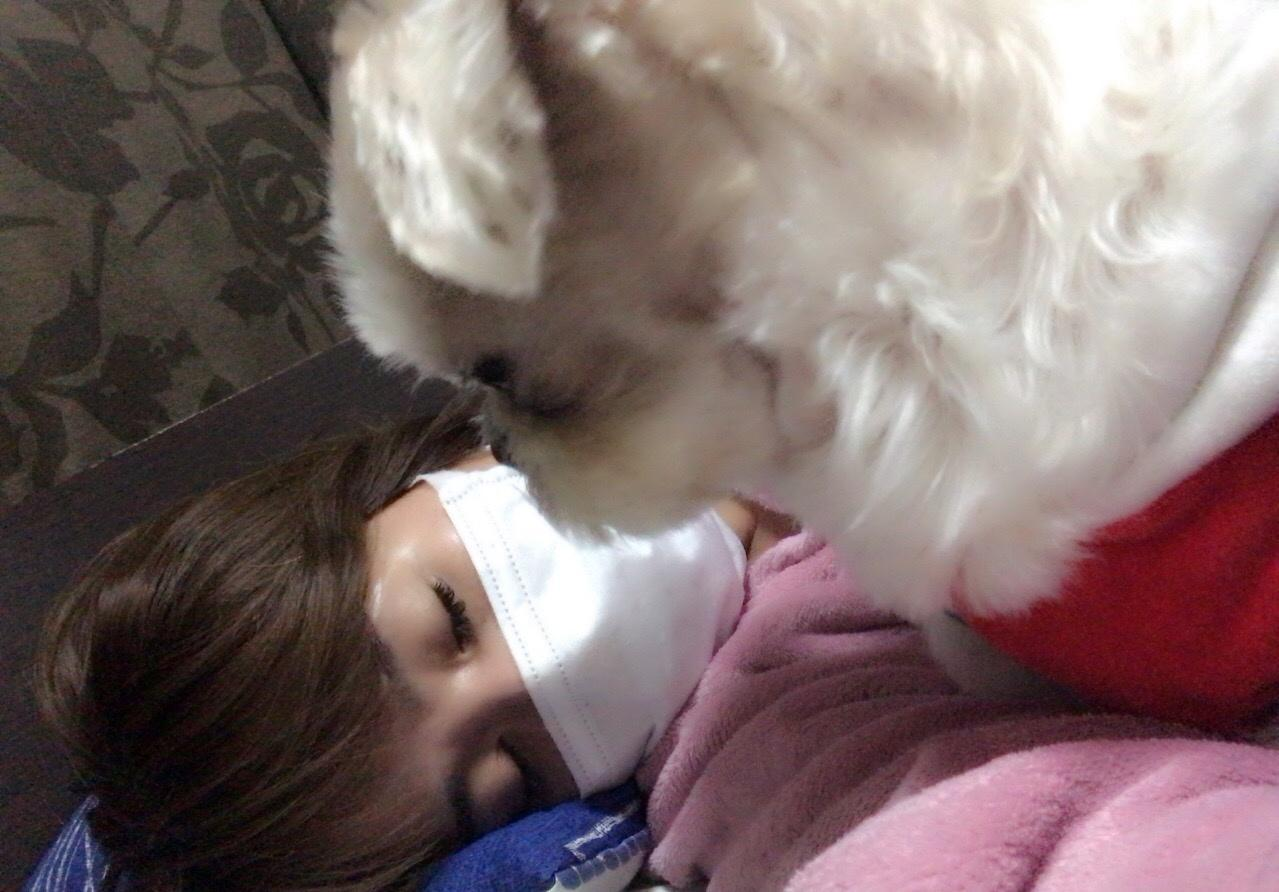OK: (382, 445, 769, 832)
